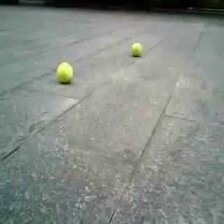tennis: (57, 62, 73, 82), (131, 41, 141, 55)
